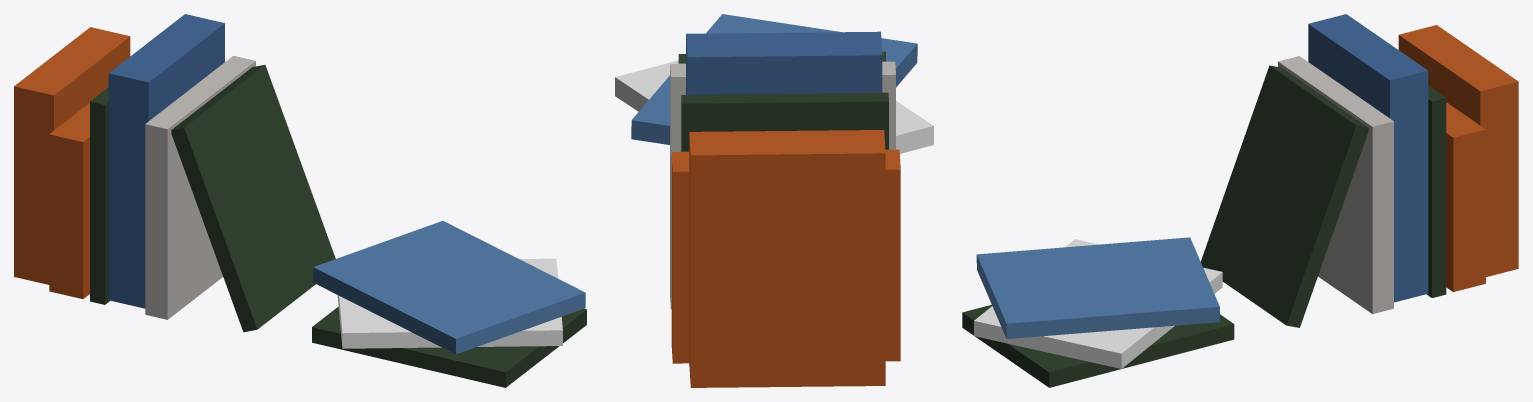
The model's file is books-2.glb.
3 renders of one model, left to right at view 1: azimuth 30°, elevation 25°; view 2: azimuth 150°, elevation 25°; view 3: azimuth 270°, elevation 25°, orthographic. The views are drawn at different scales.
Visible parts, largest first — view 1: Cube.001; view 2: Cube.001; view 3: Cube.001.
Part boxes in pixels (<box>): Cube.001: <box>14,14,586,387</box>; Cube.001: <box>615,14,933,387</box>; Cube.001: <box>962,14,1518,387</box>.
Size of the model in its own units: 0.9997 by 0.5754 by 1.28.
